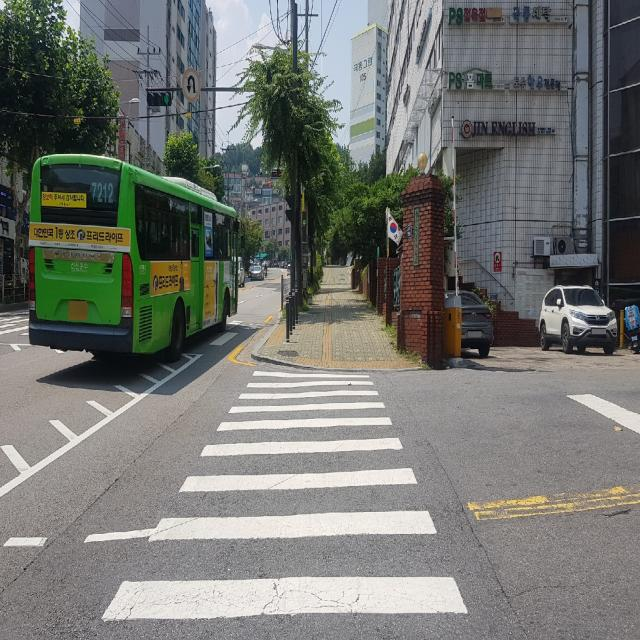횡단보도: (101, 371, 468, 624)
